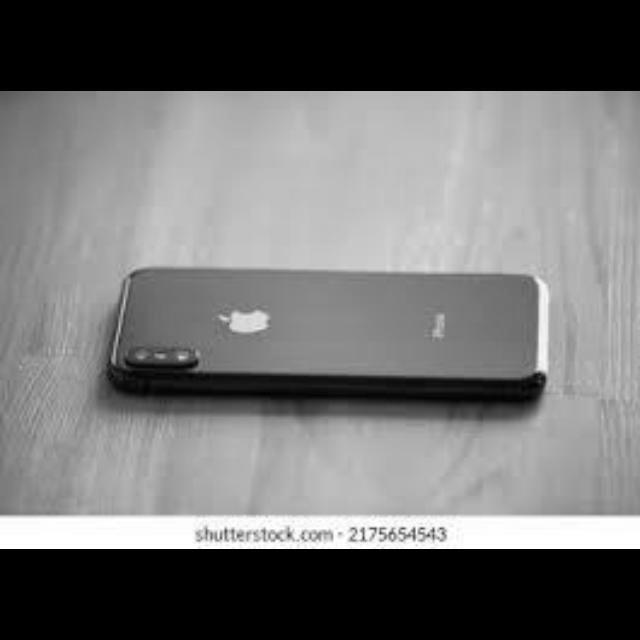fake: (108, 262, 558, 404)
